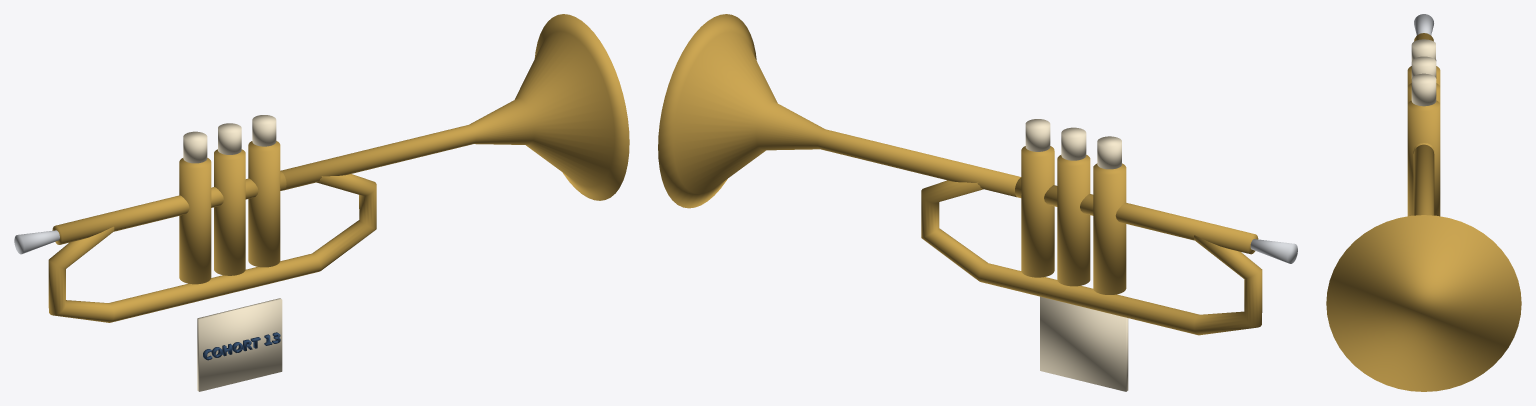
File: trumpet.glb
3 renders of one model, left to right at view 1: azimuth 30°, elevation 25°; view 2: azimuth 150°, elevation 25°; view 3: azimuth 270°, elevation 25°, orthographic. The views are drawn at different scales.
Parts seen in each view (by area): view 1: part0, part5, part2, part11; view 2: part0, part5, part2; view 3: part0, part5, part2.
Part boxes in pixels (x1,y1,x2,y2): part0: (48,14,629,322); part5: (183,115,282,391); part2: (14,230,59,254); part11: (203,332,280,360); part0: (658,14,1262,335); part5: (1025,119,1128,391); part2: (1250,239,1297,263); part0: (1326,33,1521,391); part5: (1411,39,1436,106); part2: (1414,14,1433,35).
Bounding box in the file's own units: 1 × 0.454 × 0.2945.
